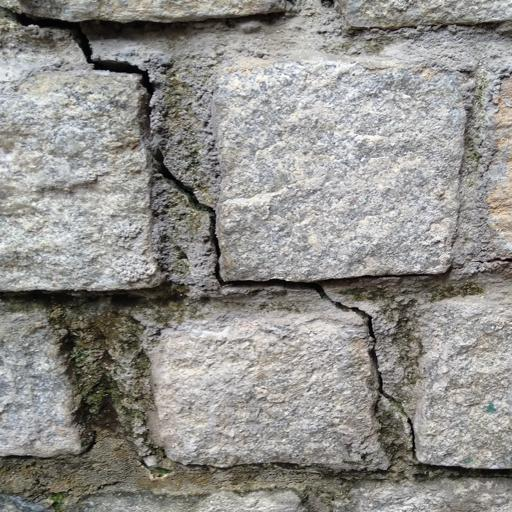major_crack: (0, 0, 493, 485)
